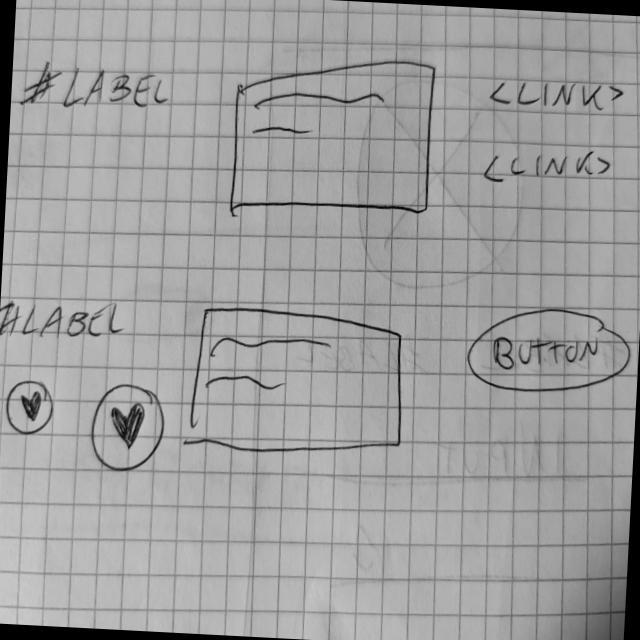button: (463, 297, 637, 408)
icon-button: (89, 380, 170, 480), (1, 376, 62, 443)
label: (19, 61, 174, 121), (1, 296, 129, 349)
link: (481, 141, 619, 196), (487, 72, 630, 120)
textarea: (222, 51, 443, 229), (187, 300, 414, 467)
